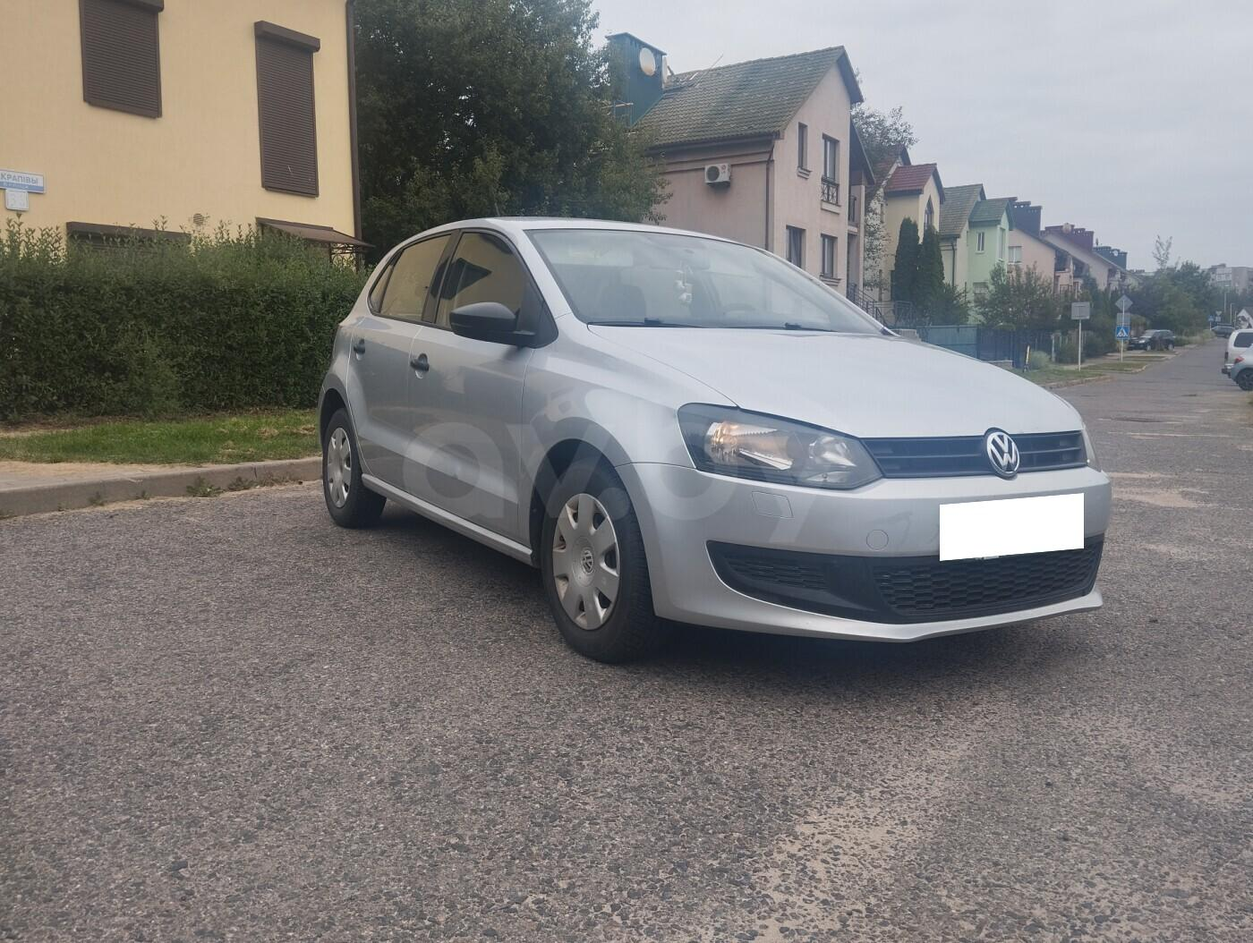Polo_2009-2015: (284, 207, 1143, 680)
